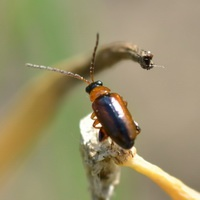insect: (26, 33, 139, 148)
